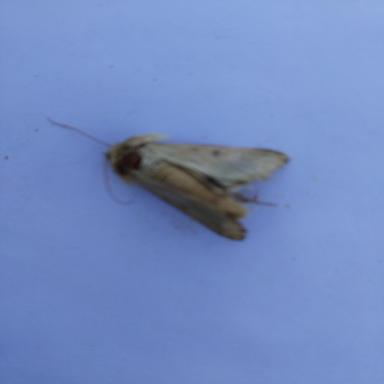abw: (39, 112, 289, 245)
